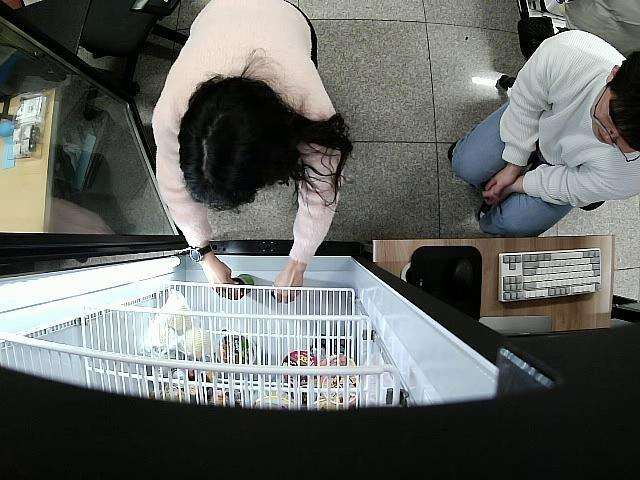19_17cha: (231, 274, 255, 300)
